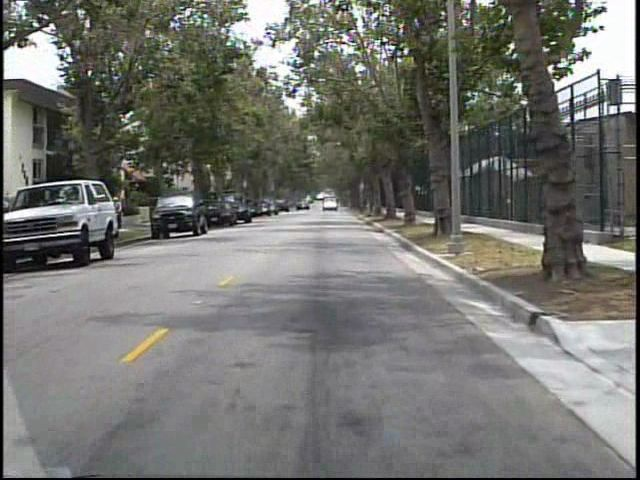person: (100, 187, 123, 235)
